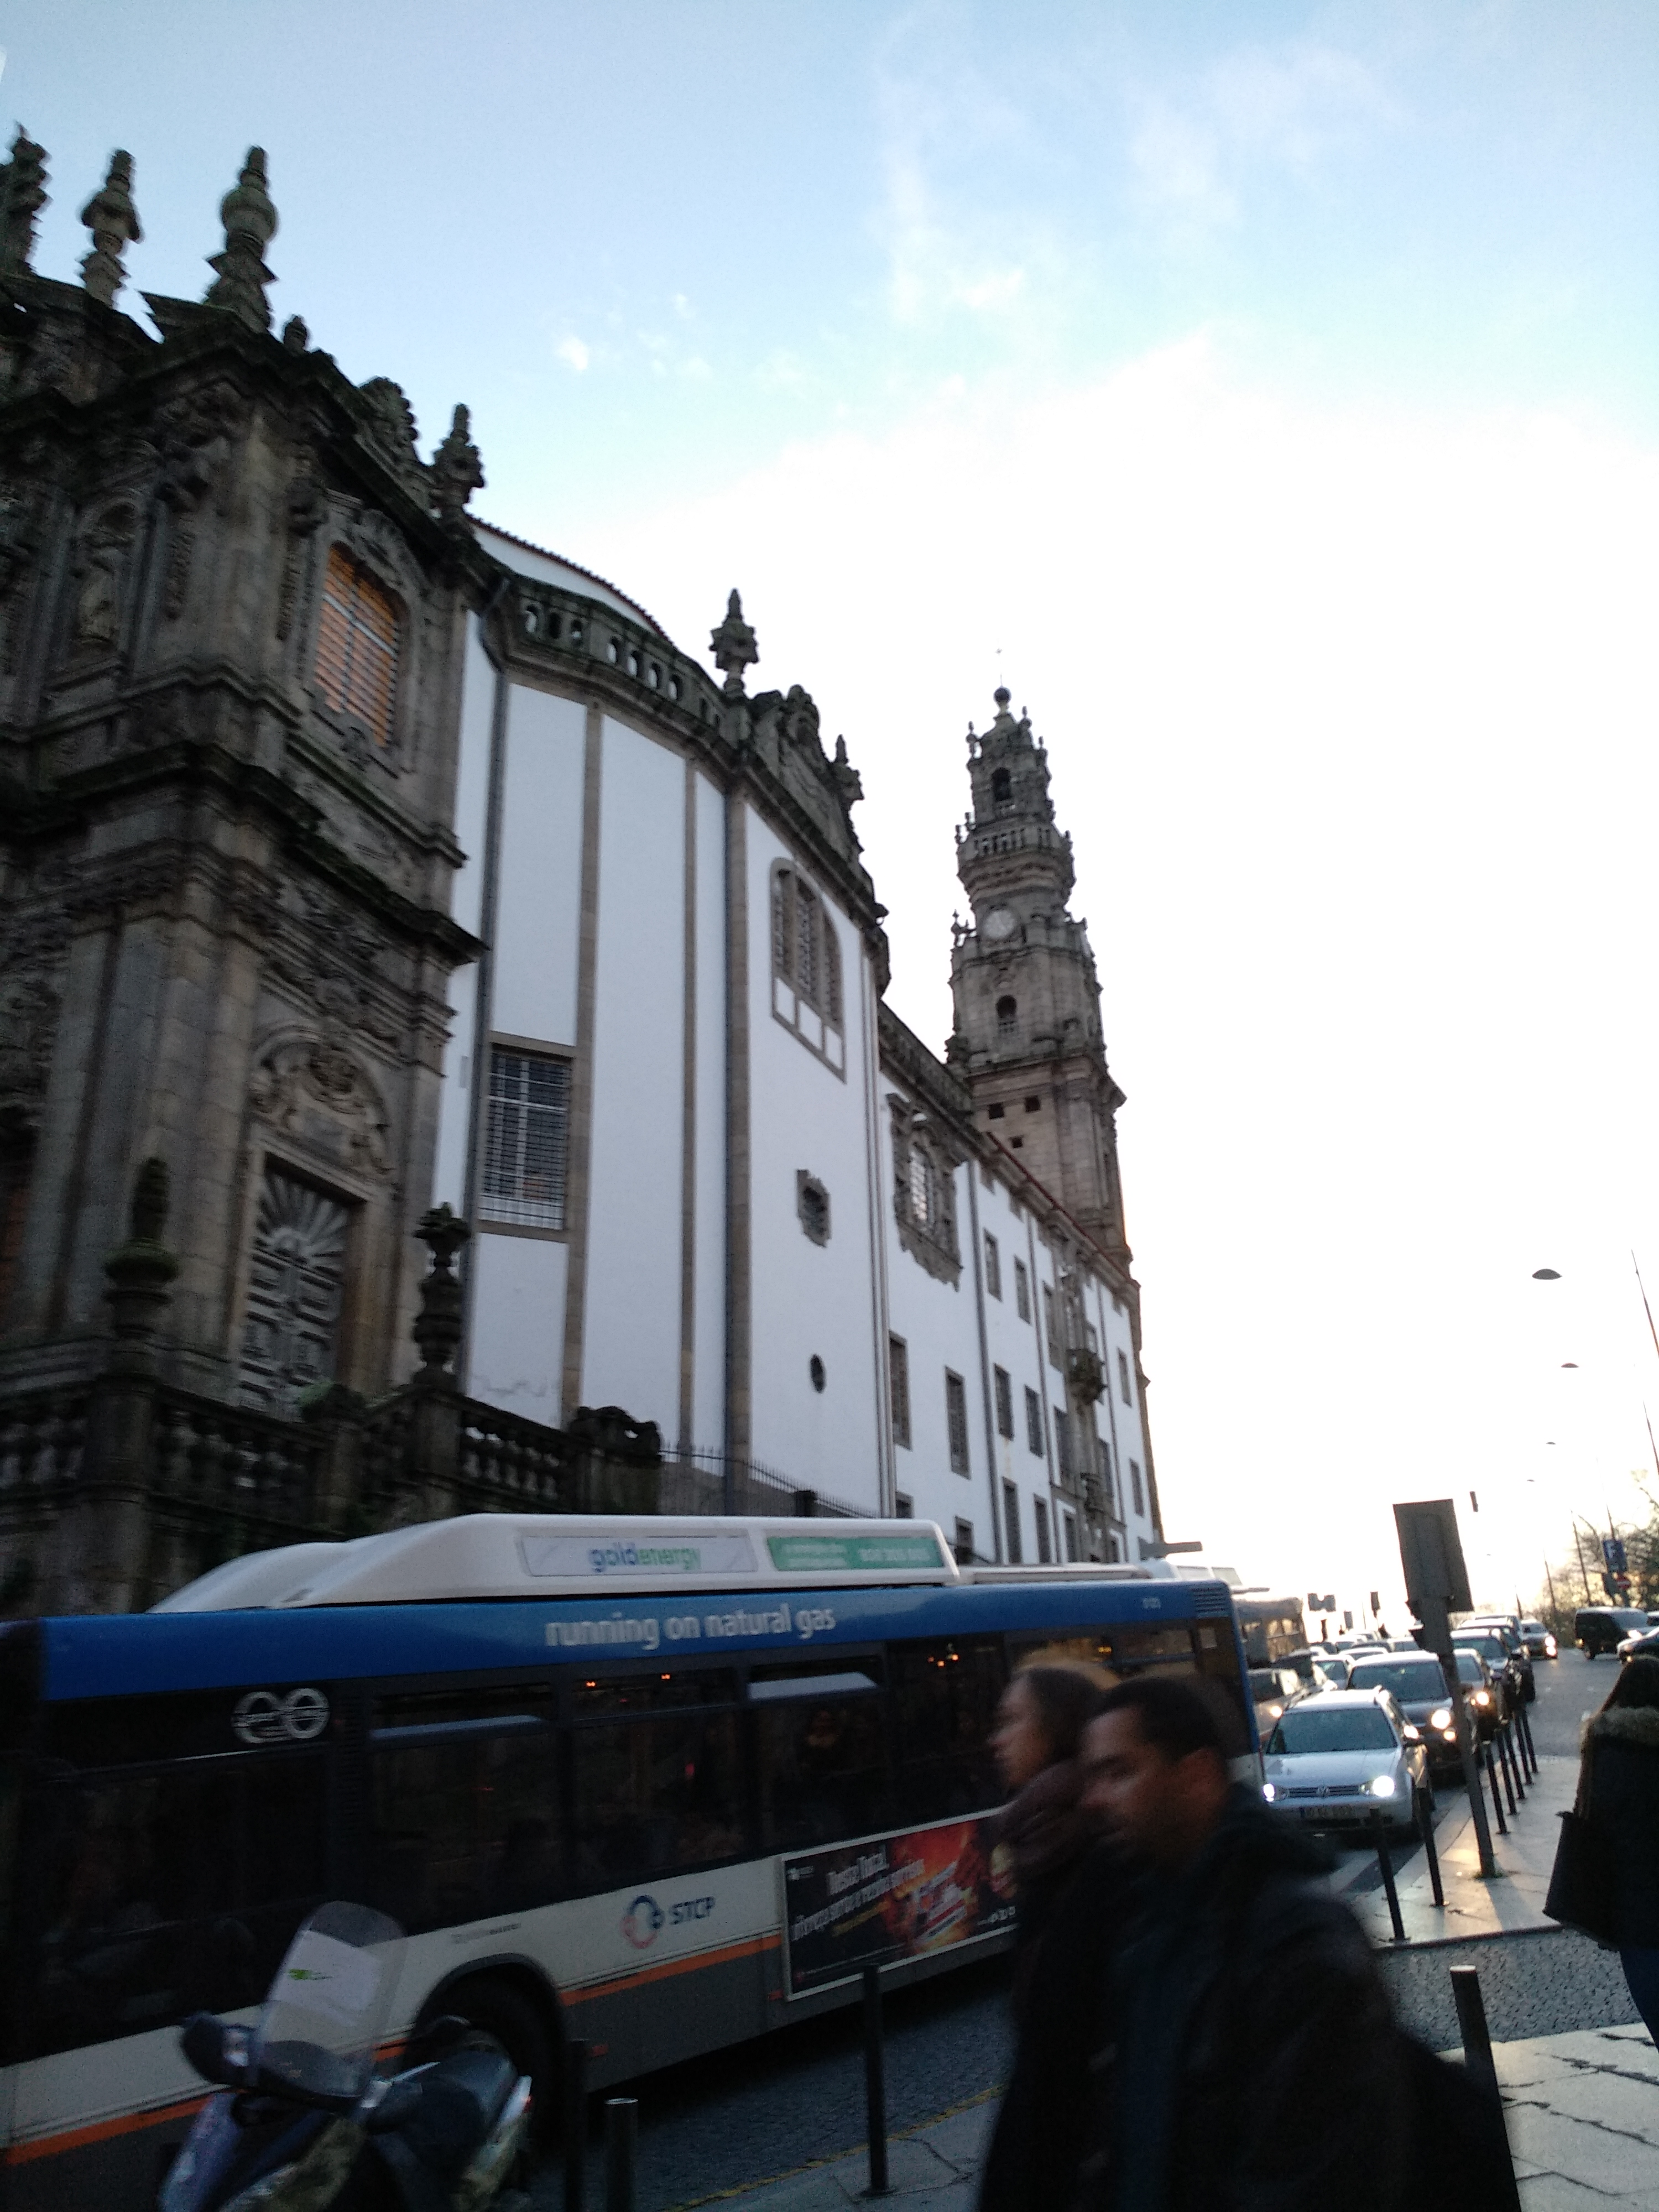clerigos: (920, 688, 1147, 1258)
